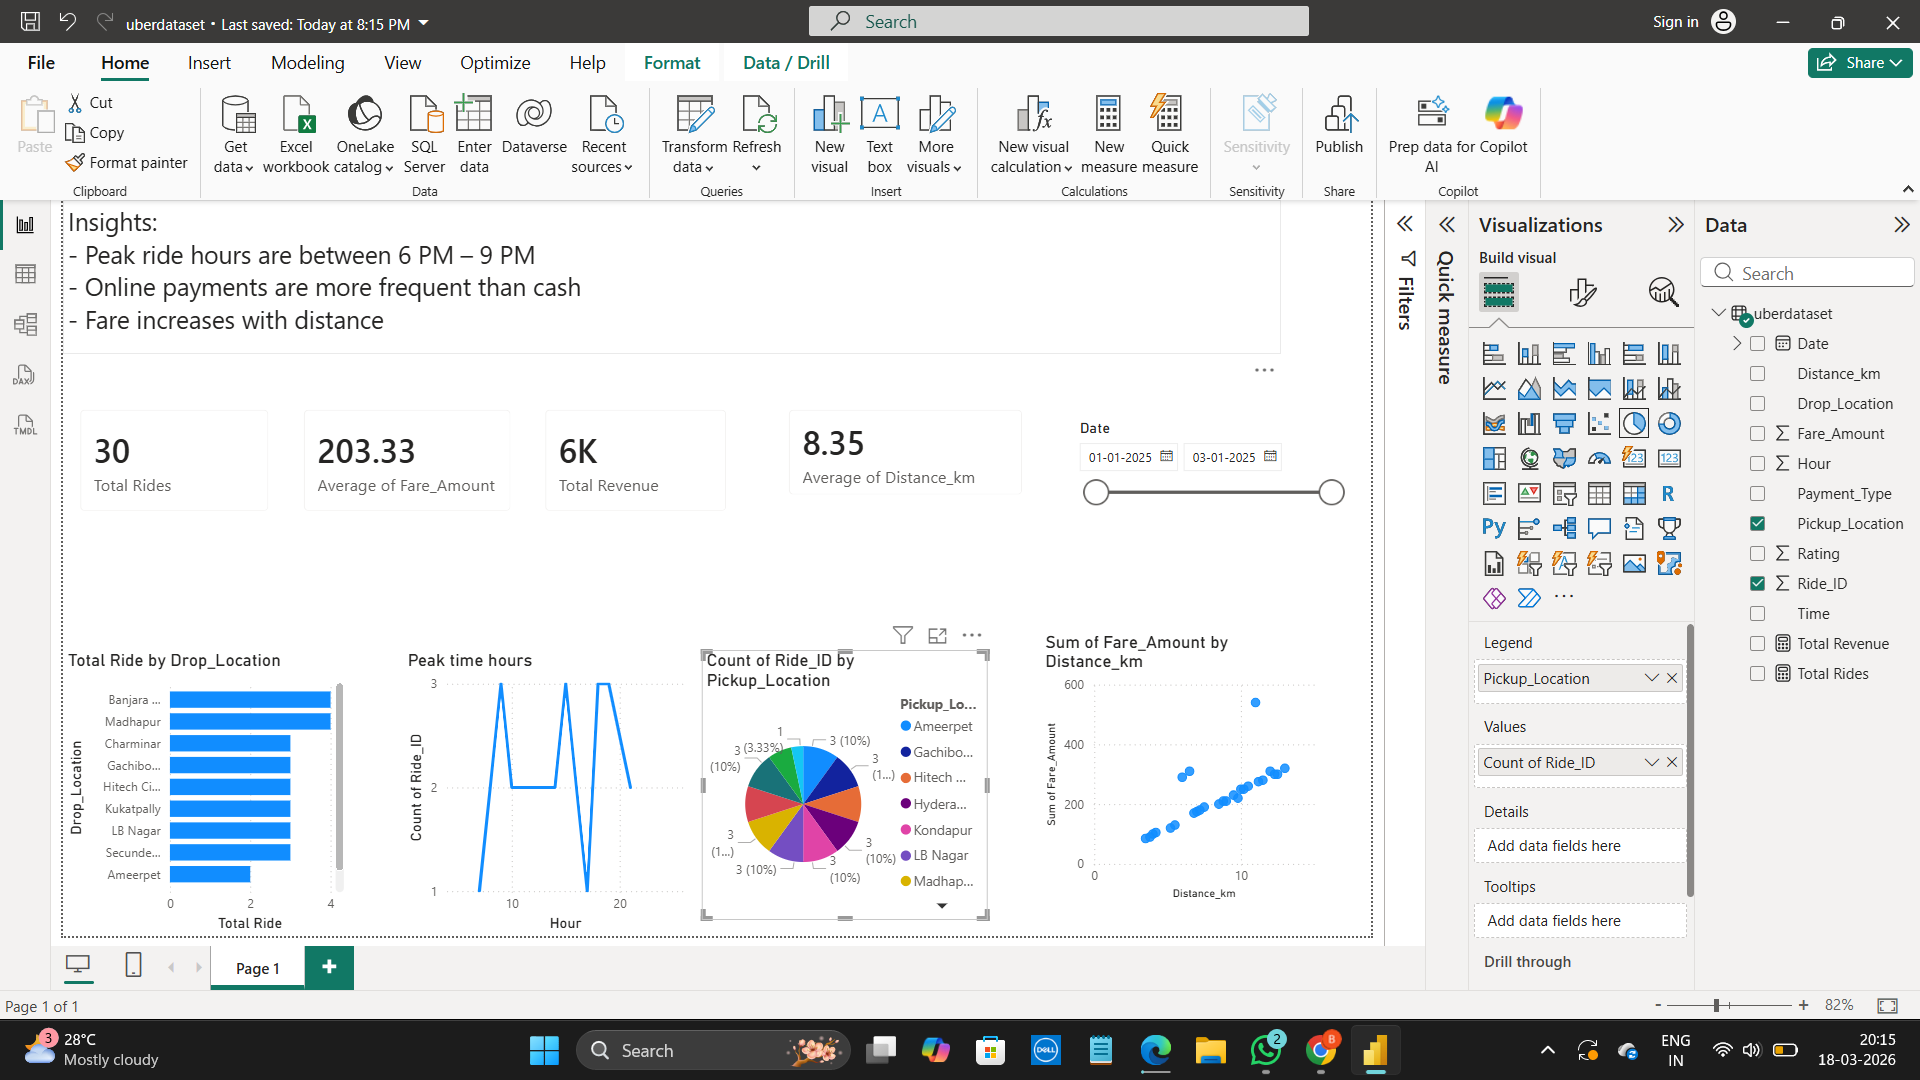

The page's visual inventory and layout, read from the dashboard file:
{"tool":"powerbi","page":{"name":"Page 1","canvas":[1280,720],"ordinal":0},"visuals":[{"type":"barChart","fields":{"Y":["CountNonNull(uberdataset.Ride_ID)"],"Category":["uberdataset.Drop_Location"]},"box":[0,440.5,279.9,279.9],"z":0},{"type":"lineChart","title":"Peak time hours","fields":{"Category":["uberdataset.Hour"],"Y":["CountNonNull(uberdataset.Ride_ID)"]},"box":[332.1,440.5,279.9,279.9],"z":1000},{"type":"cardVisual","fields":{"Data":["uberdataset.Total Rides"]},"box":[0,188.3,218.9,133.3],"z":2000},{"type":"cardVisual","fields":{"Data":["Avg(uberdataset.Fare_Amount)"]},"box":[218.9,188.3,236,133.3],"z":3000},{"type":"cardVisual","fields":{"Data":["uberdataset.Total Revenue"]},"box":[454.9,188.3,211.6,133.3],"z":4000},{"type":"pieChart","fields":{"Y":["CountNonNull(uberdataset.Ride_ID)"],"Category":["uberdataset.Pickup_Location"]},"box":[624.4,440.5,279.9,263.5],"z":5000},{"type":"scatterChart","fields":{"X":["uberdataset.Distance_km"],"Y":["Sum(uberdataset.Fare_Amount)"]},"box":[956.4,421.3,279.9,267.6],"z":6000},{"type":"slicer","fields":{"Values":["uberdataset.Date"]},"box":[982.5,208.6,279.9,150.9],"z":7000},{"type":"textbox","box":[0,0,1191.1,150.9],"z":8000},{"type":"cardVisual","fields":{"Data":["Avg(uberdataset.Distance_km)"]},"box":[693.3,188.3,262.9,117.4],"z":9000}]}

Visuals, with their boxes on the page's 1280x720 design canvas (x1, y1, x2, y2). These are canvas units, not pixel positions in the 1920x1080 screenshot, which may show the page scaled, cropped or inside an application window:
barChart - CountNonNull(uberdataset.Ride_ID) x uberdataset.Drop_Location: select_region(0, 440, 280, 720)
"Peak time hours" lineChart: select_region(332, 440, 612, 720)
cardVisual - uberdataset.Total Rides: select_region(0, 188, 219, 322)
cardVisual - Avg(uberdataset.Fare_Amount): select_region(219, 188, 455, 322)
cardVisual - uberdataset.Total Revenue: select_region(455, 188, 666, 322)
pieChart - CountNonNull(uberdataset.Ride_ID) x uberdataset.Pickup_Location: select_region(624, 440, 904, 704)
scatterChart - uberdataset.Distance_km x Sum(uberdataset.Fare_Amount): select_region(956, 421, 1236, 689)
slicer - uberdataset.Date: select_region(982, 209, 1262, 360)
textbox: select_region(0, 0, 1191, 151)
cardVisual - Avg(uberdataset.Distance_km): select_region(693, 188, 956, 306)
